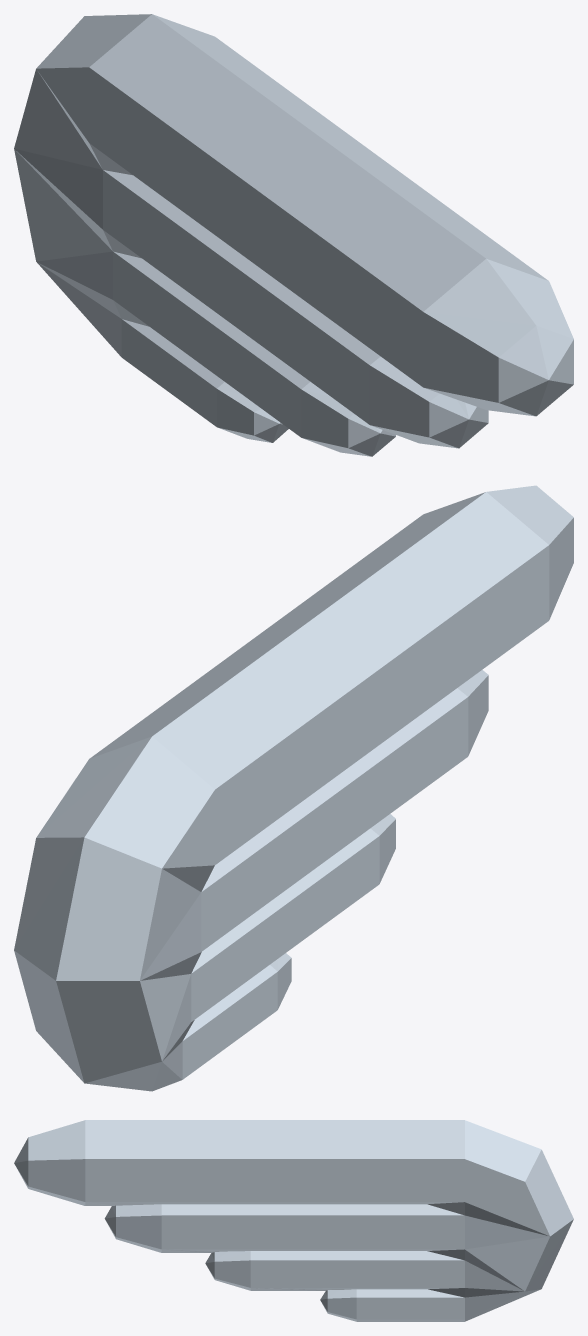
The model's file is arm_right.FBX.
3 renders of one model, top to bottom at view 1: azimuth 30°, elevation 25°; view 2: azimuth 150°, elevation 25°; view 3: azimuth 270°, elevation 25°, orthographic. The views are drawn at different scales.
Parts seen in each view (by area): view 1: VIFS001; view 2: VIFS001; view 3: VIFS001.
Boxes of the visible parts, x1=… form: VIFS001: x1=14, y1=14, x2=573, y2=456; VIFS001: x1=14, y1=485, x2=573, y2=1091; VIFS001: x1=14, y1=1120, x2=573, y2=1321.
Bounding box in the file's own units: 0.087 × 0.2345 × 0.59.
